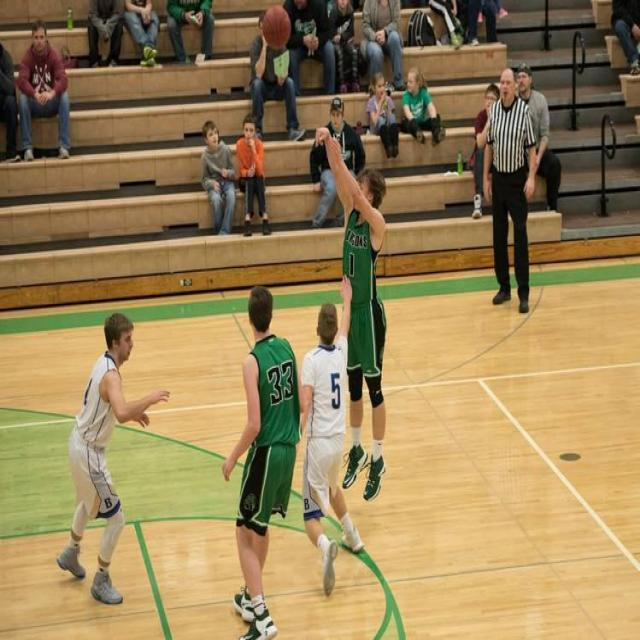Basketball: (262, 5, 290, 49)
